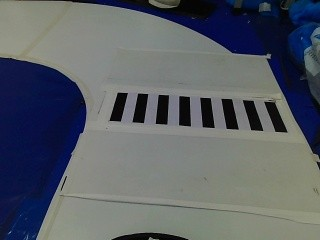crosswalk: (97, 80, 296, 142)
